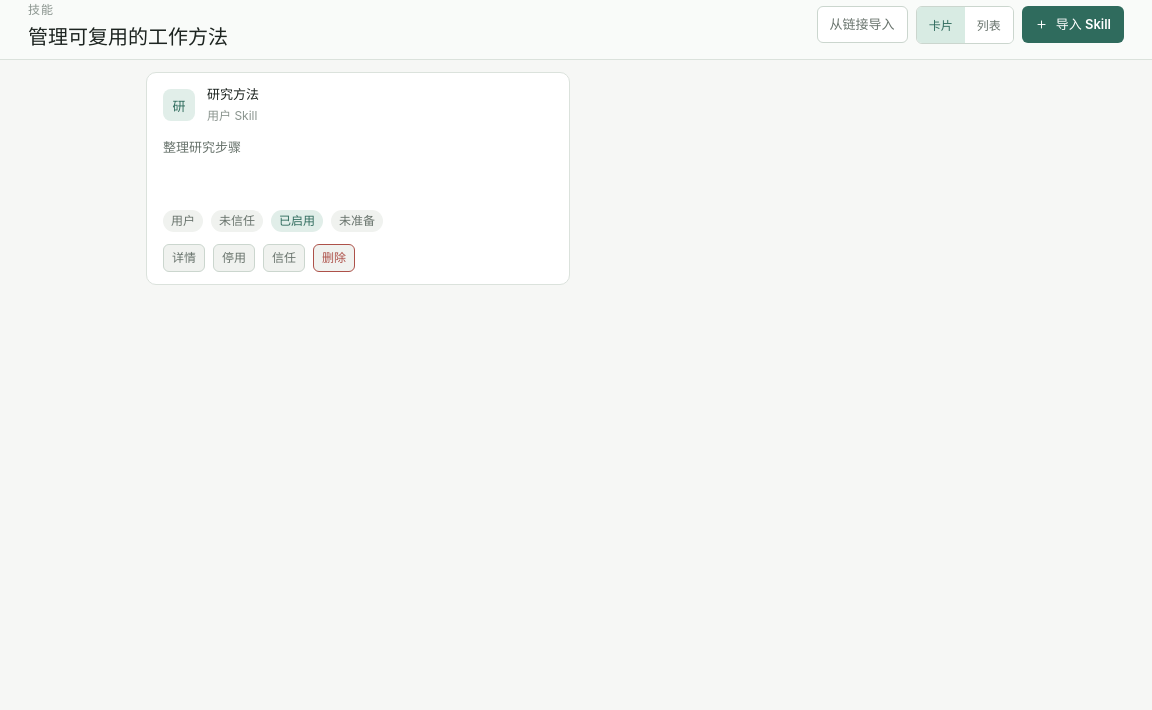
Test: SkillsPage › routes short-lived success feedback through the shared toast
Expected: the text "研究方法" is shown, [207,85,259,103]
Click the button "研 研究方法 用户 Skill 整理研究步骤": {"x": 179, "y": 105} [163,85,553,198]
(page scrolled)
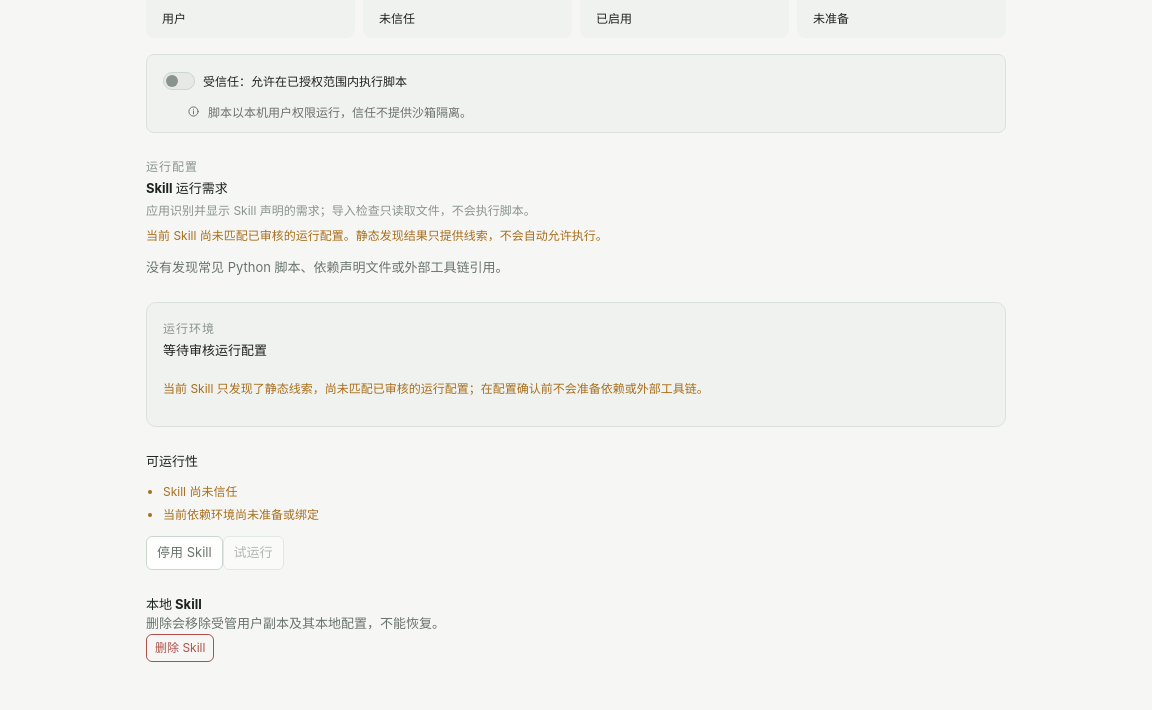
Click the button "停用 Skill": {"x": 184, "y": 553} [146,536,223,570]
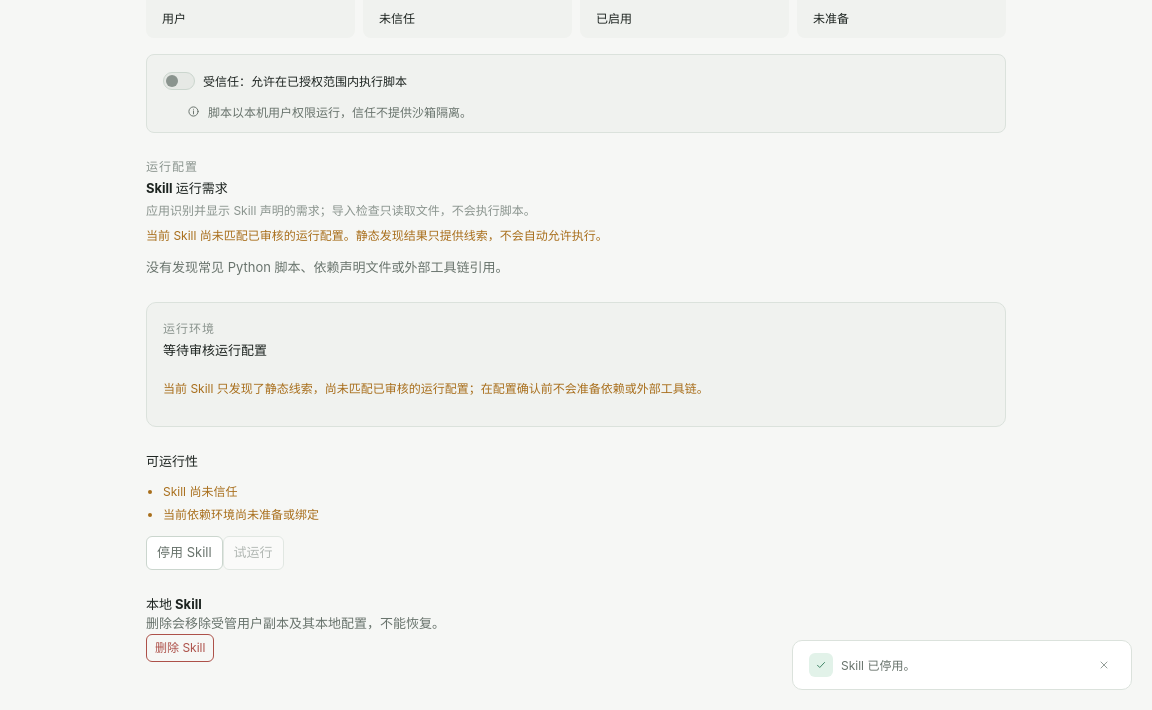
Expected: the text "Skill 已停用。" is shown, [841,658,915,673]
